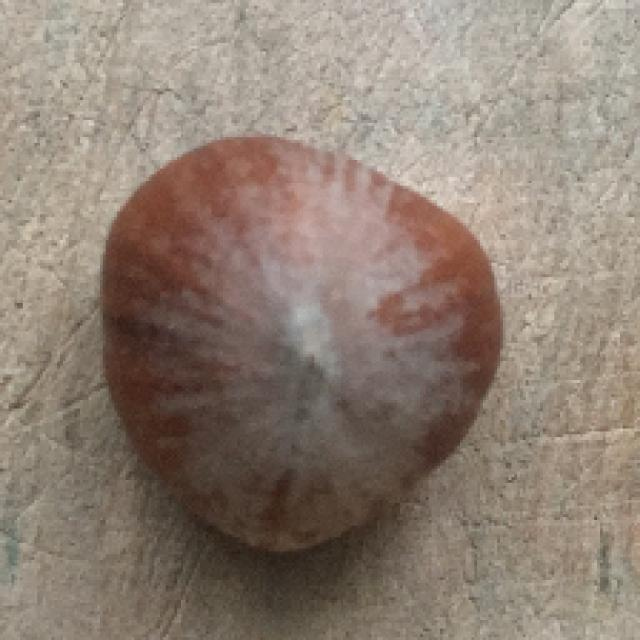qualityHazelnut: (109, 136, 503, 558)
